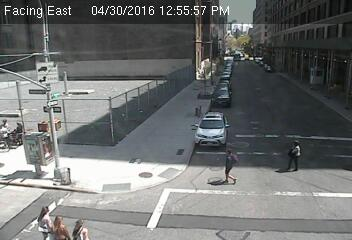neg: (159, 106, 187, 144), (87, 27, 111, 59), (190, 68, 210, 95), (97, 130, 115, 155), (297, 61, 315, 85), (142, 165, 157, 186), (96, 160, 111, 180), (137, 11, 151, 30), (211, 42, 223, 58), (252, 49, 263, 63), (185, 6, 195, 19)
pos: (32, 198, 62, 237), (51, 213, 69, 238), (72, 215, 89, 238)
